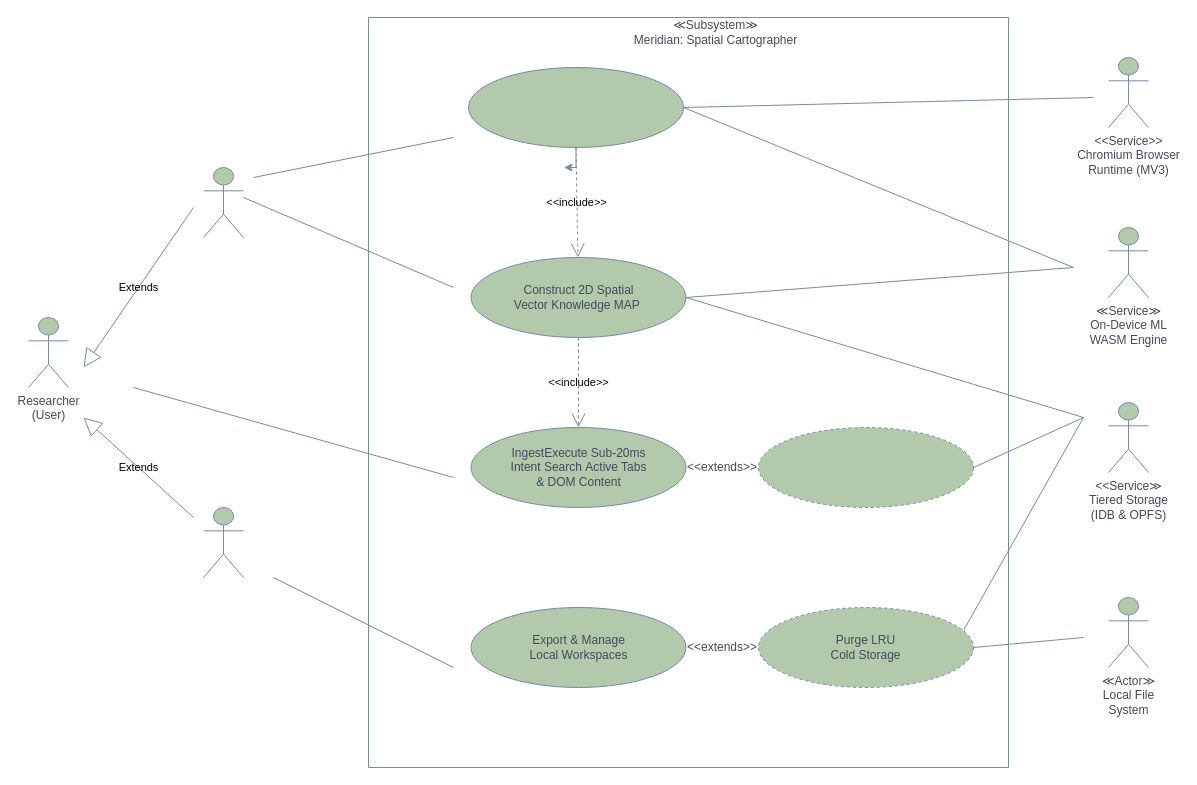
Some shapes in this 1197 by 785 pixel diagram are drawn without their labels. Here are the shapes that lost their labels. From the top down, the centre of each, then its label:
At pixel 576 107: "Ingest Active Tabs & DOM Content".
At pixel 223 202: "Active / Reader".
At pixel 866 467: "Auto-Pan Viewport (≤20ms SLA)".
At pixel 223 542: "Knowledge Curator".
